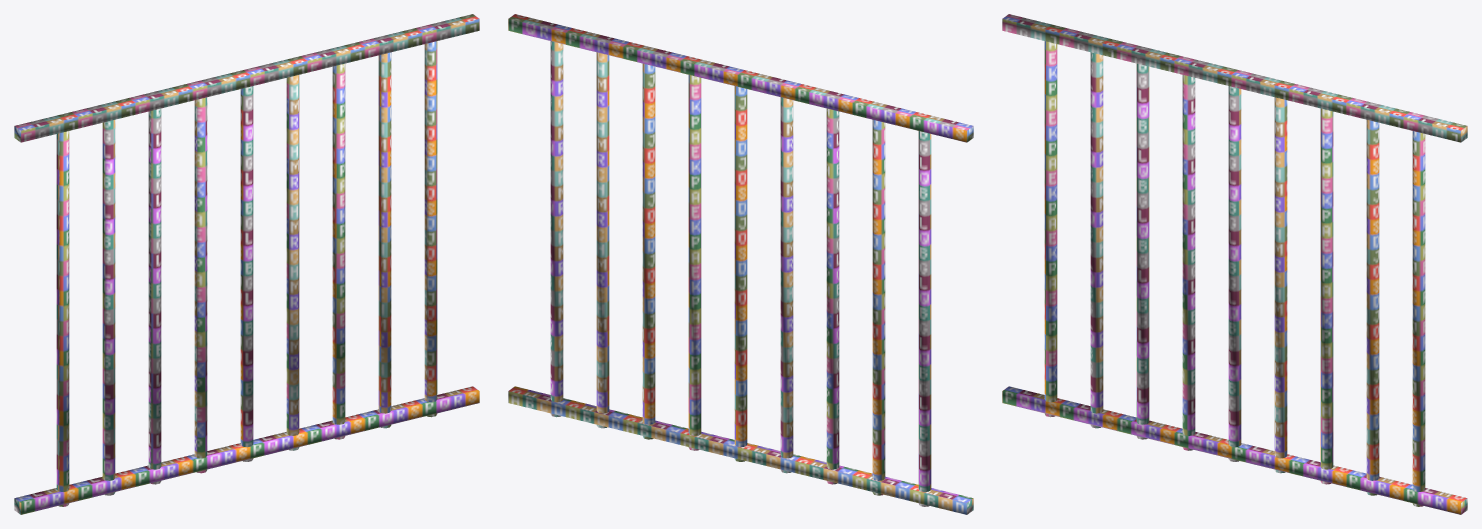
Rendered from bars_locked_door.obj.
3 views of the same model, side by side, from view 1: azimuth 30°, elevation 25°; view 2: azimuth 150°, elevation 25°; view 3: azimuth 330°, elevation 25° (orthographic).
Visible parts, largest first — view 1: cube1; view 2: cube1; view 3: cube1.
Boxes of the visible parts, box(x1,y1,x2,y2) form: cube1: box(14, 14, 479, 514); cube1: box(508, 14, 973, 514); cube1: box(1002, 14, 1467, 514).
Bounding box in the file's own units: 10 × 8.06 × 0.25.
Materials: 1 (1 with a texture image).
